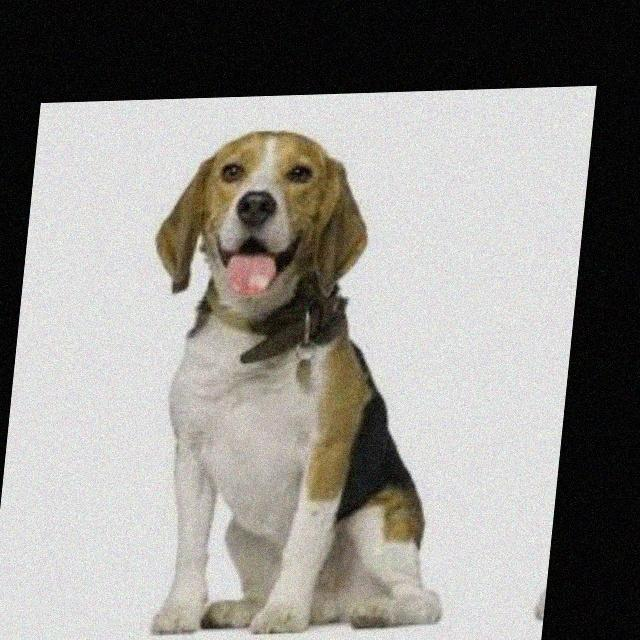dog: (82, 101, 492, 640), (536, 98, 596, 640), (0, 115, 55, 640)
